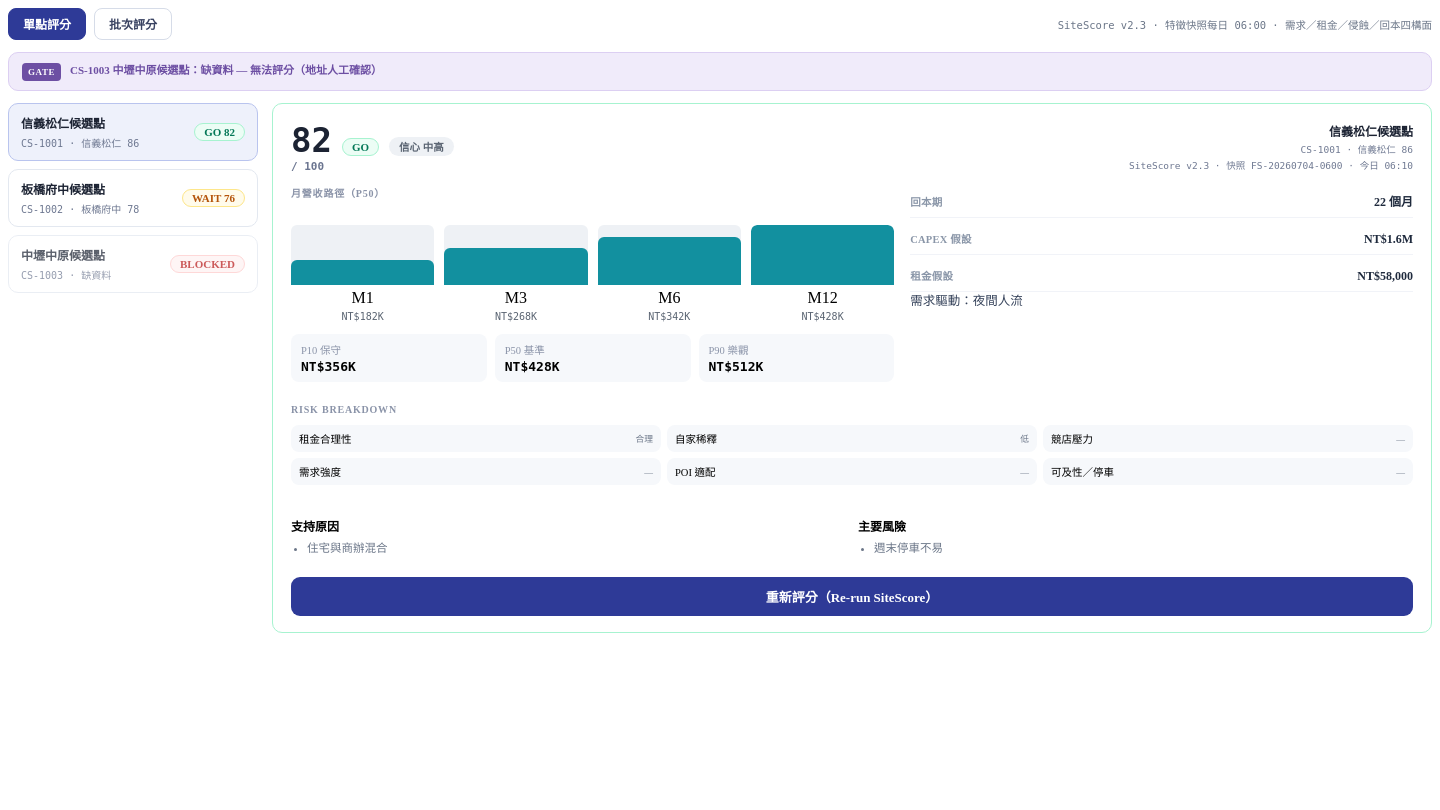
Package 10 Network non-intake panels › renders the single SiteScore report and a dense batch table from the same API model
The image size is (1440, 810).
Expected: the element with test id "sitescore-card-CS-1001" shows "FS-20260704-0600", [1251,160,1342,171]
What coordinates should you click on to do the following:
click the button "批次評分"
I would click on:
 (133, 24)
Its box is [94,8,172,40].
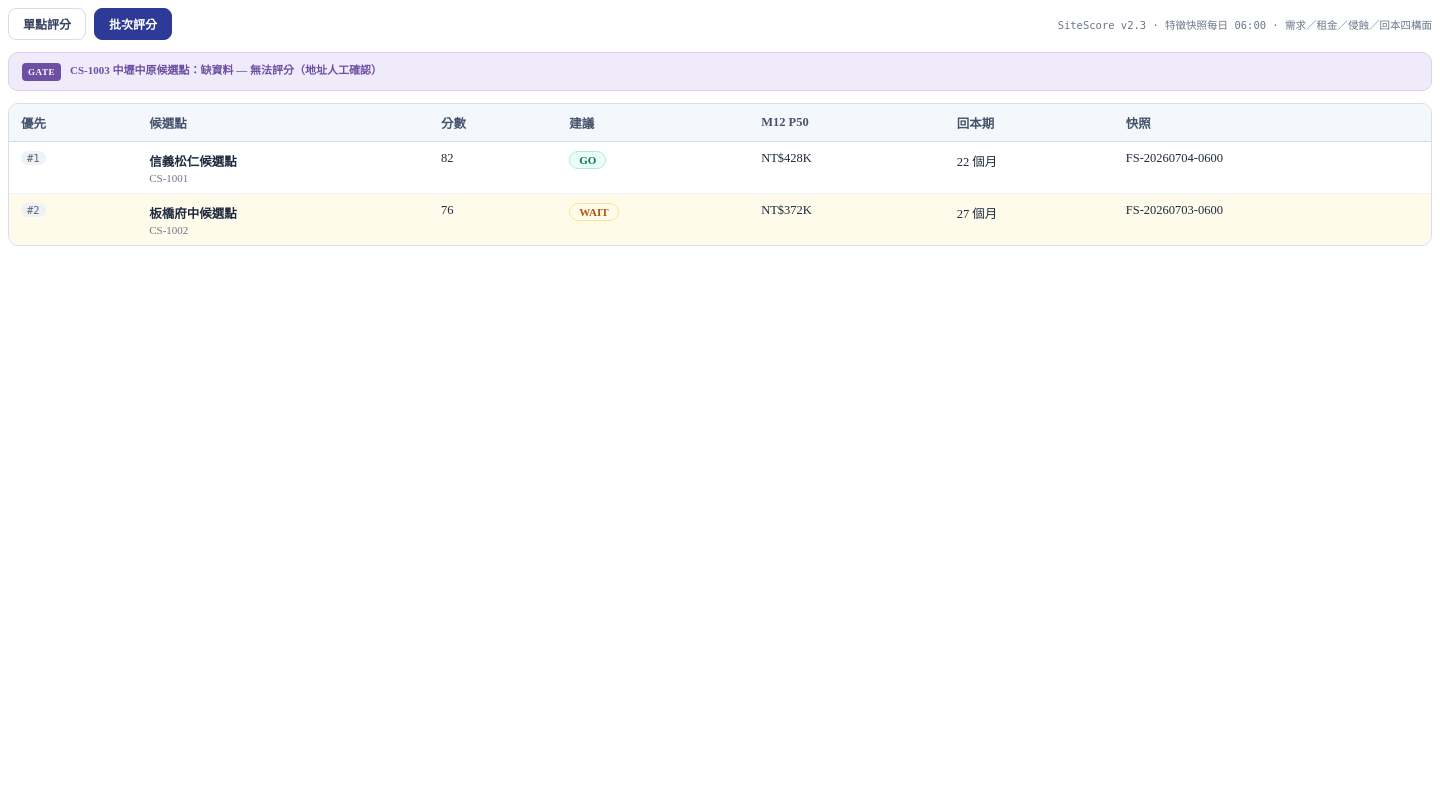
Expected: the table with test id "sitescore-batch-table" shows "82", [441,151,454,165]
Expected: the table with test id "sitescore-batch-table" shows "76", [441,203,454,217]
